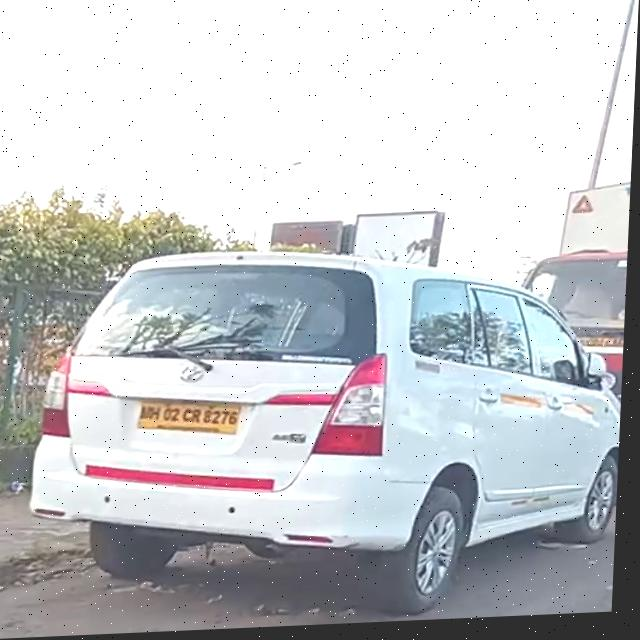plate: (138, 399, 246, 443)
